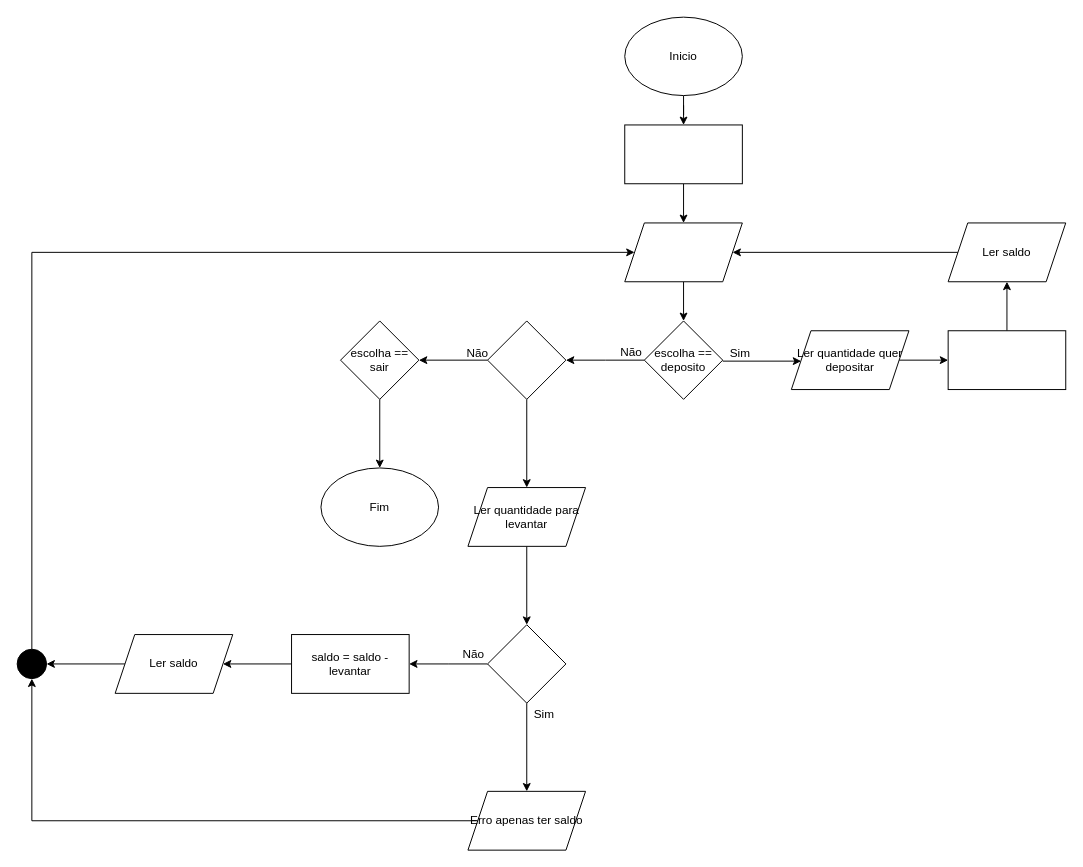
This 1083x867 diagram has some shape labels left out. Each missing label, with the centre of its shape:
"escolha == levantar" goes at [526,359].
"Ler escolha" goes at [683,252].
"levantar>saldo" goes at [526,663].
"saldo = 15 deposito = 0 escolha levantar sair" goes at [683,154].
"saldo = saldo + deposito" goes at [1006,360].
